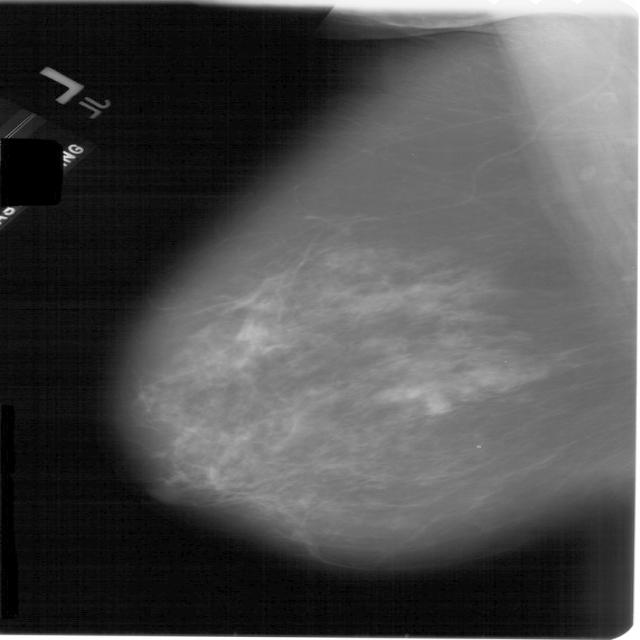tumour: (425, 393, 450, 414)
